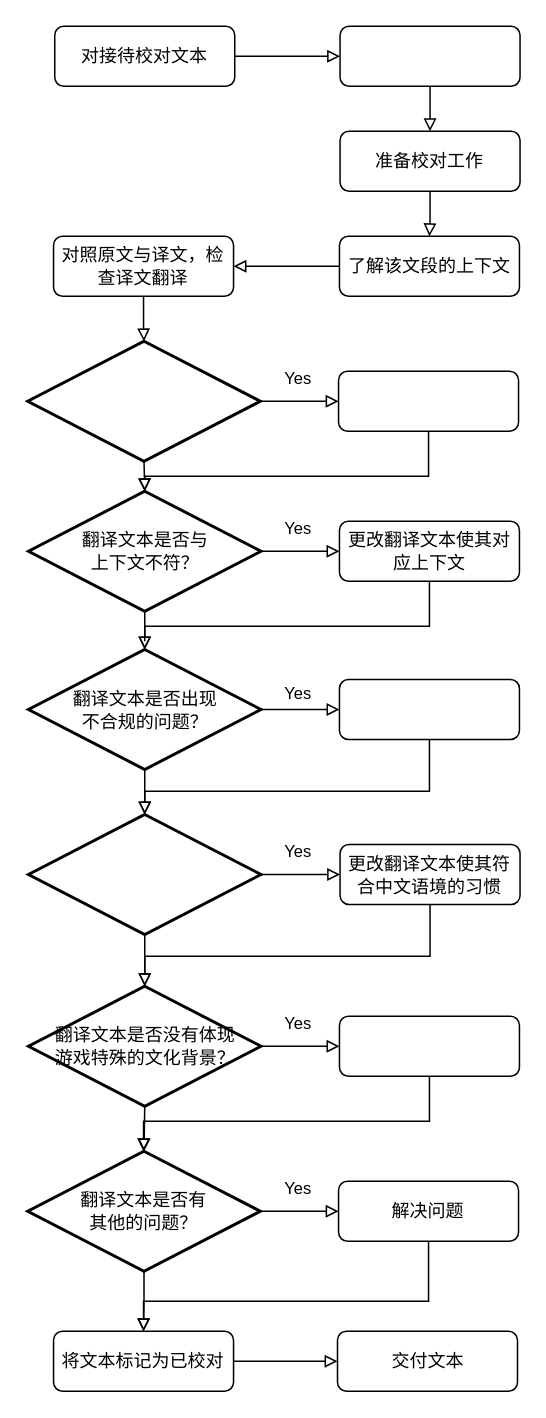
Image size: 546x1418. Some labels were removed from this diagram. The box of each missing label's shape, as (x1, y1, x2, y2) in pixels:
改正翻译文本的翻译错误: (337, 370, 519, 431)
更改翻译文本使其合规: (338, 678, 519, 740)
更改翻译文本使其贴合文化背景: (338, 1015, 519, 1076)
翻译文本是否出现 翻译错误？: (26, 339, 261, 462)
翻译文本是否符合 中文语境下的习惯？: (26, 812, 262, 935)
阅读翻译规范与文化报告: (339, 25, 520, 86)
